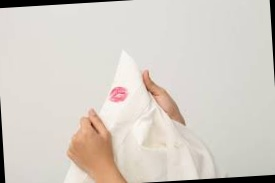lipstick: (109, 84, 133, 103)
